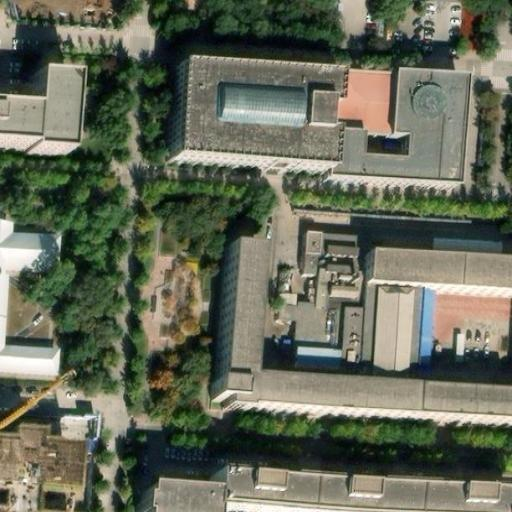building: (222, 246, 512, 425), (170, 59, 334, 166), (328, 68, 472, 180), (291, 282, 432, 389), (210, 465, 512, 512), (0, 421, 83, 512), (363, 249, 511, 293), (0, 81, 68, 158), (299, 224, 362, 278), (133, 478, 211, 512), (290, 296, 327, 342)
